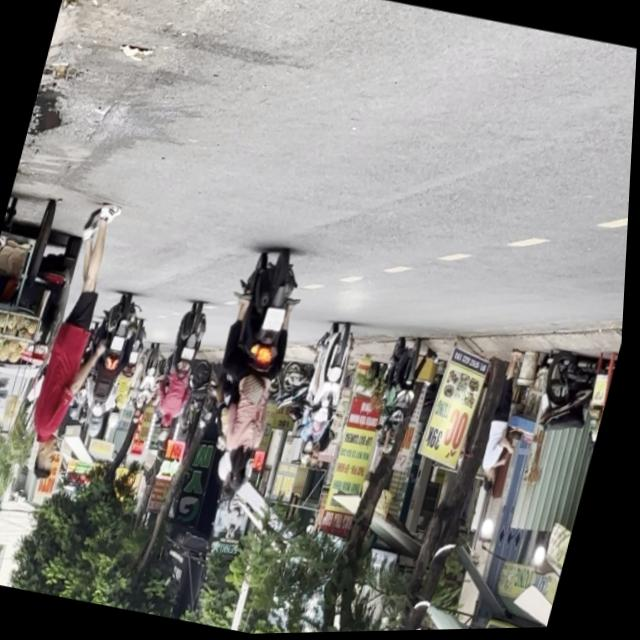helmet: (218, 449, 240, 486), (302, 439, 320, 467)
licenseplate: (187, 240, 318, 507), (287, 318, 366, 474)
motorcyclist: (228, 448, 260, 497)
nohelmet: (265, 306, 289, 333)
